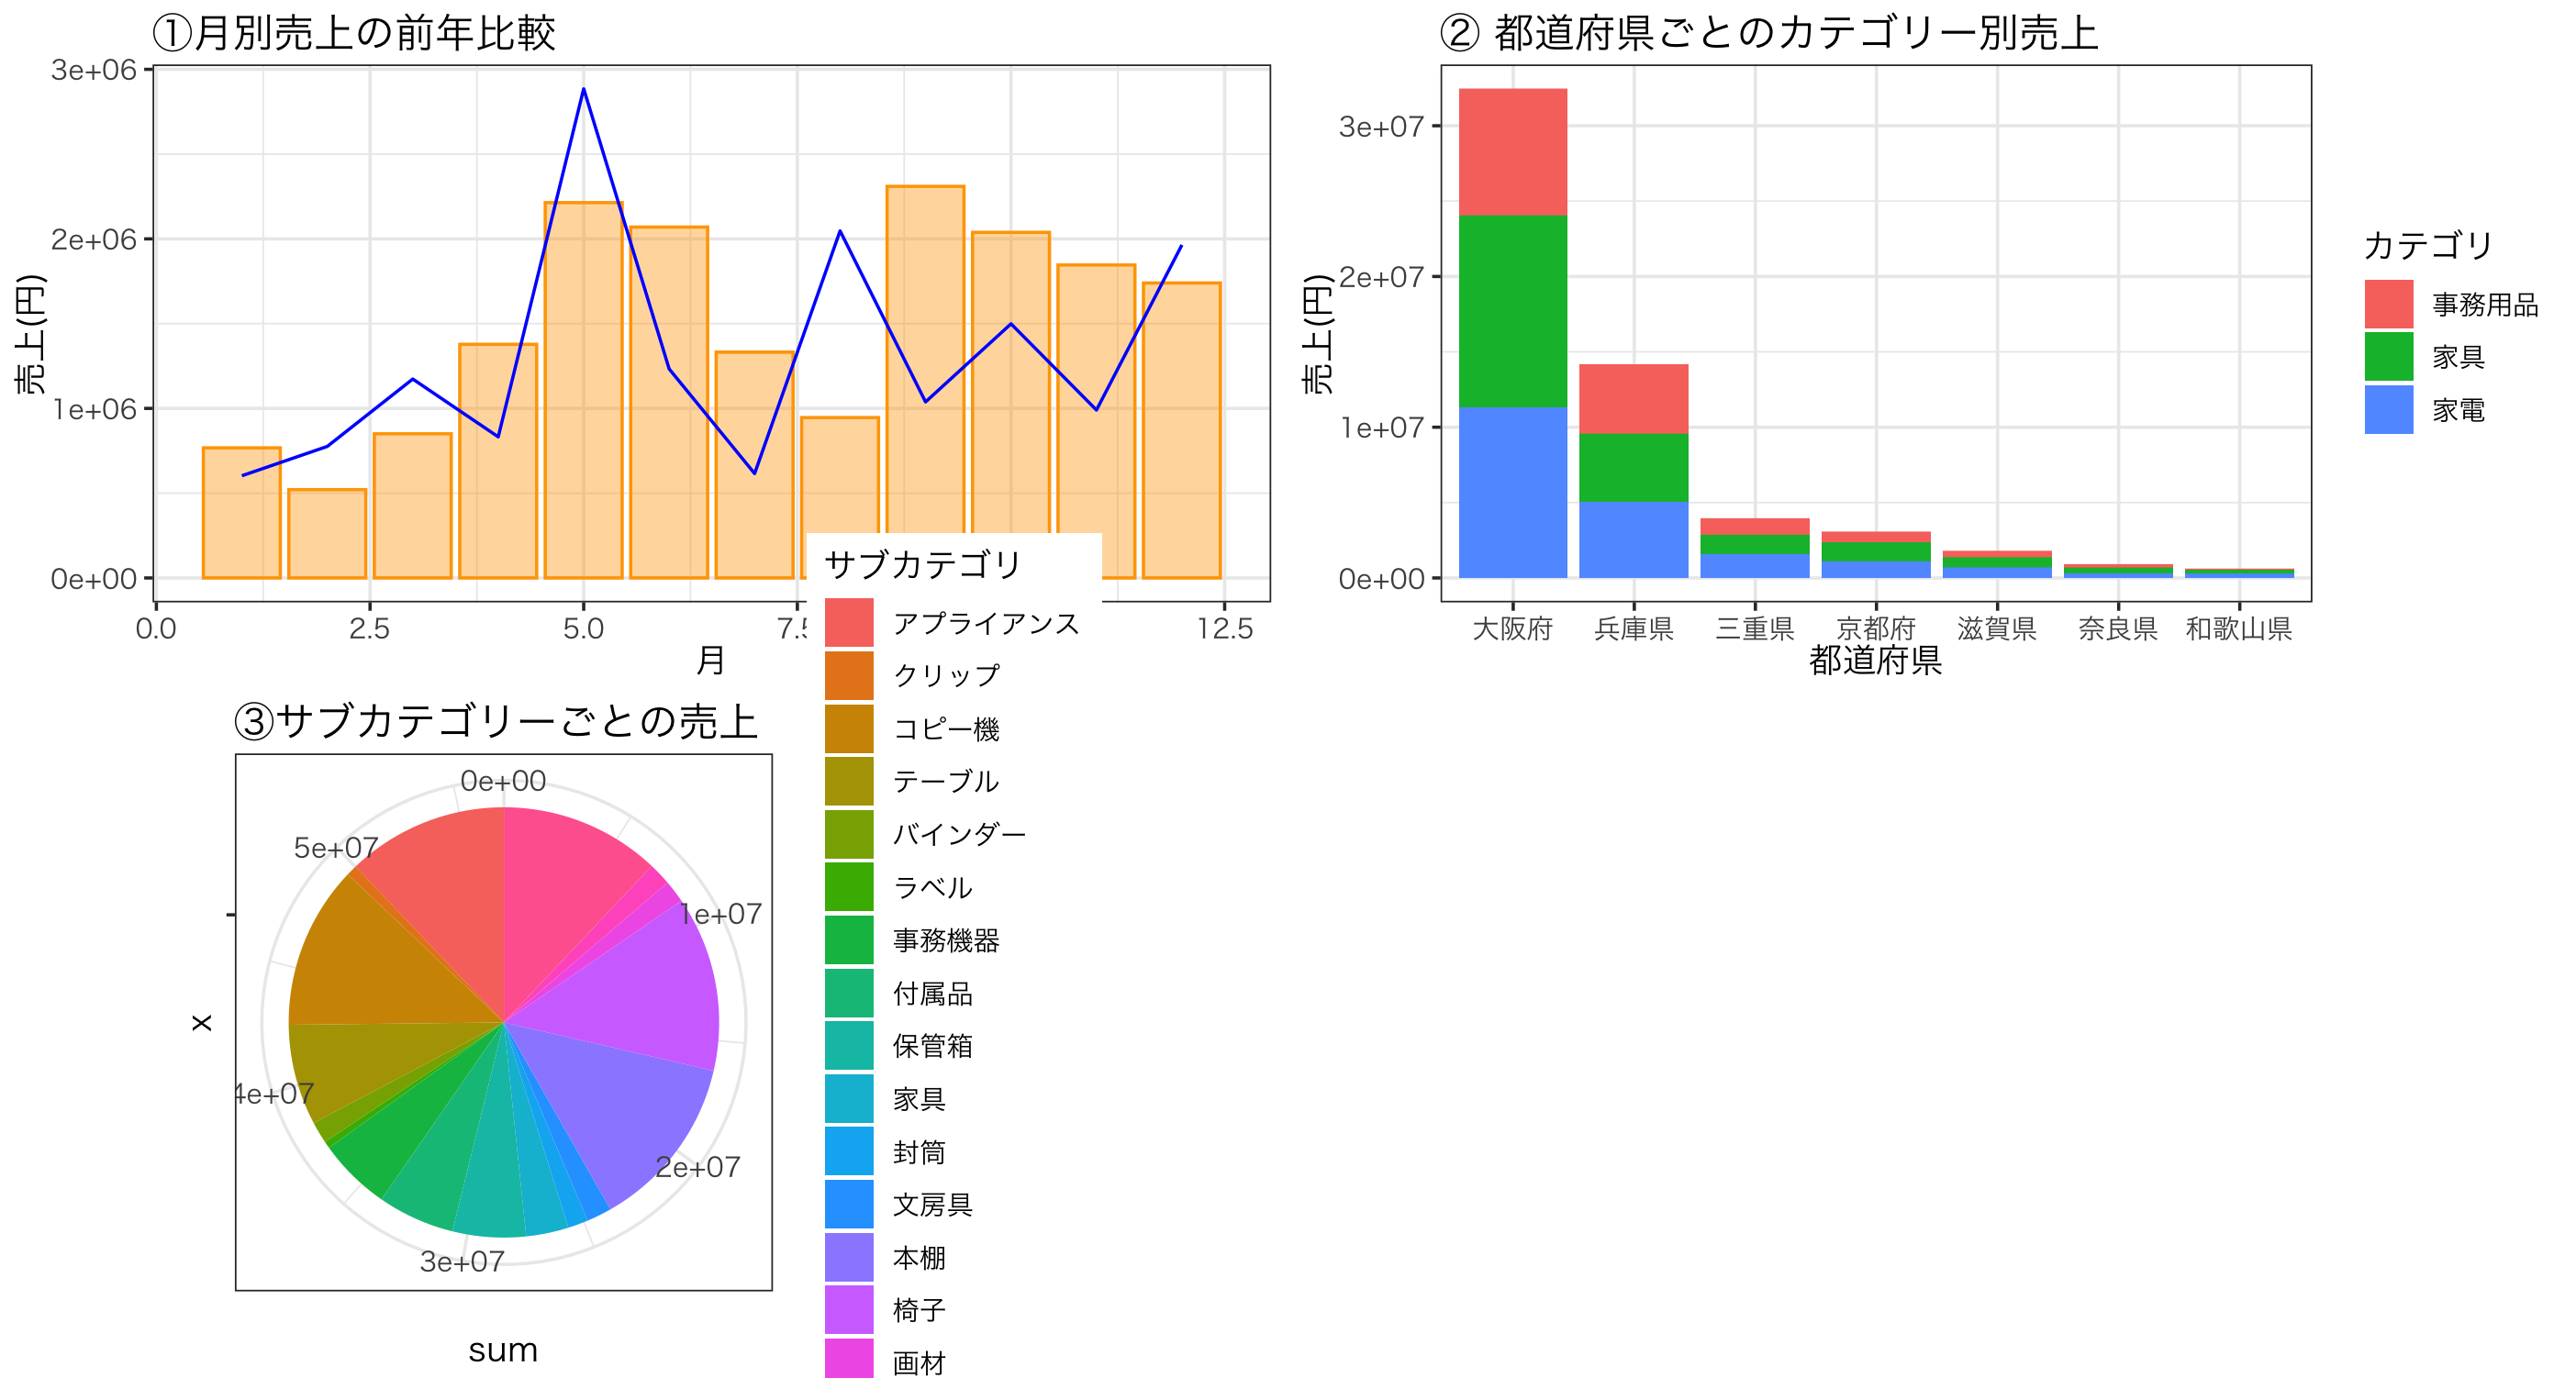

The page's visual inventory and layout, read from the dashboard file:
{"tool":"tableau","page":{"name":"ダッシュボード 1","canvas":[1000,800],"ordinal":0},"visuals":[{"type":"worksheet","title":"① 月別売上を前年との比較","mark":"Automatic","rows":["売上"],"cols":["オーダー日"],"box":[8,8,546,784]},{"type":"worksheet","title":" ② 都道府県ごとのカテゴリー別売上","mark":"Automatic","rows":["売上"],"cols":["地域","都道府県"],"box":[554,8,438,442]},{"type":"legend","title":"① 月別売上を前年との比較","param":"[federated.1cd2tn00v2e8fx1g5jv3m00m4rmh].[yr:オーダー日:ok]","box":[413,62,140,58]},{"type":"legend","title":" ② 都道府県ごとのカテゴリー別売上","param":"[federated.1cd2tn00v2e8fx1g5jv3m00m4rmh].[none:カテゴリ:nk]","box":[838,90,140,78]},{"type":"worksheet","title":" ③ サブカテゴリーごとの売上","mark":"Pie","rows":["地域"],"box":[554,450,163,342]},{"type":"legend","title":" ③ サブカテゴリーごとの売上","param":"[federated.1cd2tn00v2e8fx1g5jv3m00m4rmh].[none:サブカテゴリ:nk]","box":[717,450,275,342]}]}

Visuals, with their boxes on the page's 1000x800 design canvas (x1, y1, x2, y2). These are canvas units, not pixel positions in the 2576x1378 screenshot, which may show the page scaled, cropped or inside an application window:
"① 月別売上を前年との比較" worksheet: x1=8, y1=8, x2=554, y2=792
" ② 都道府県ごとのカテゴリー別売上" worksheet: x1=554, y1=8, x2=992, y2=450
"① 月別売上を前年との比較" legend: x1=413, y1=62, x2=553, y2=120
" ② 都道府県ごとのカテゴリー別売上" legend: x1=838, y1=90, x2=978, y2=168
" ③ サブカテゴリーごとの売上" worksheet (Pie marks): x1=554, y1=450, x2=717, y2=792
" ③ サブカテゴリーごとの売上" legend: x1=717, y1=450, x2=992, y2=792
